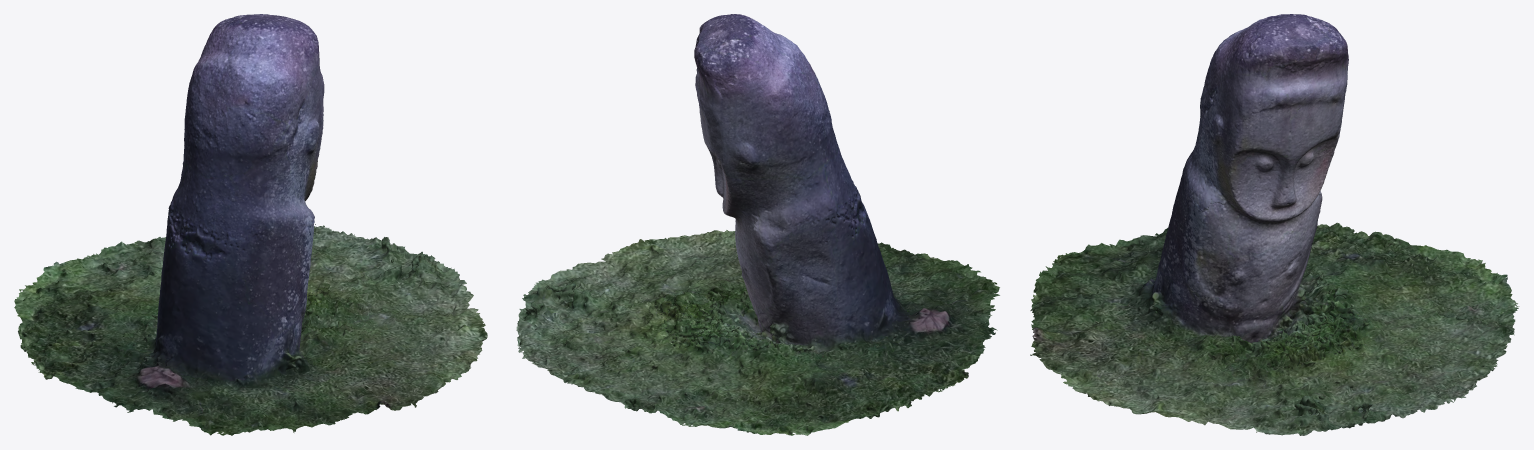
File: arca-langke-bulawa.glb
3 views of the same model, side by side, from view 1: azimuth 30°, elevation 25°; view 2: azimuth 150°, elevation 25°; view 3: azimuth 270°, elevation 25° (orthographic). The views are drawn at different scales.
Parts seen in each view (by area): view 1: Object_3; view 2: Object_3; view 3: Object_3.
Part boxes in pixels (x1,y1,x2,y2): Object_3: [14, 14, 487, 435]; Object_3: [516, 14, 999, 435]; Object_3: [1030, 14, 1519, 435].
Bounding box in the file's own units: 1.36 × 0.9811 × 1.32.
1 material, 1 textured.
